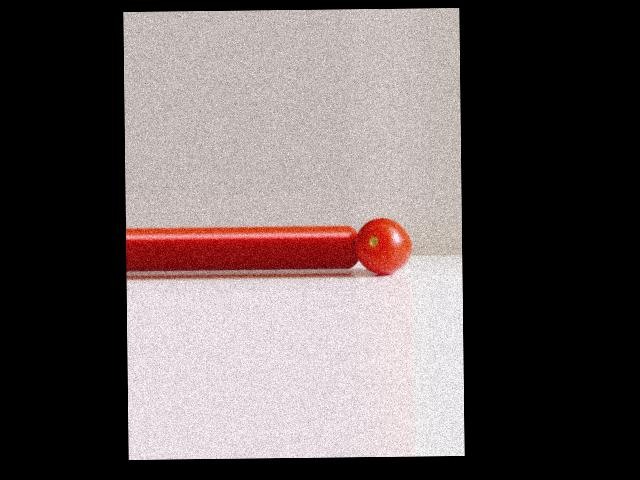tomato: (355, 217, 411, 274)
